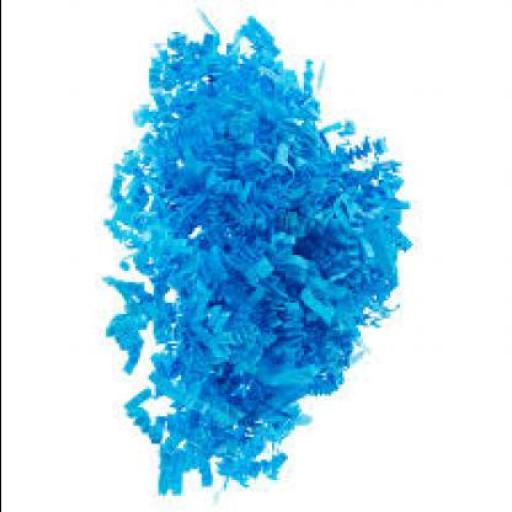paper: (100, 4, 414, 497)
